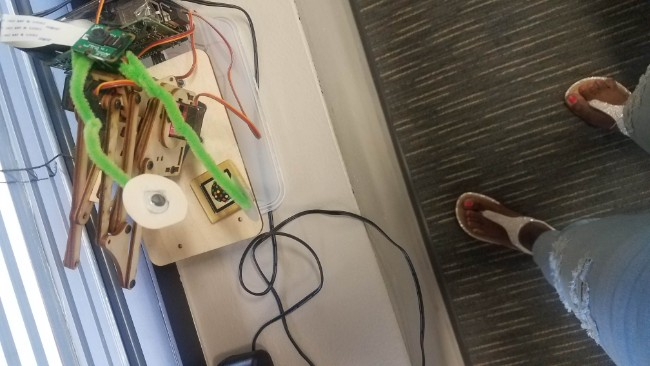cookie: (197, 169, 246, 216)
